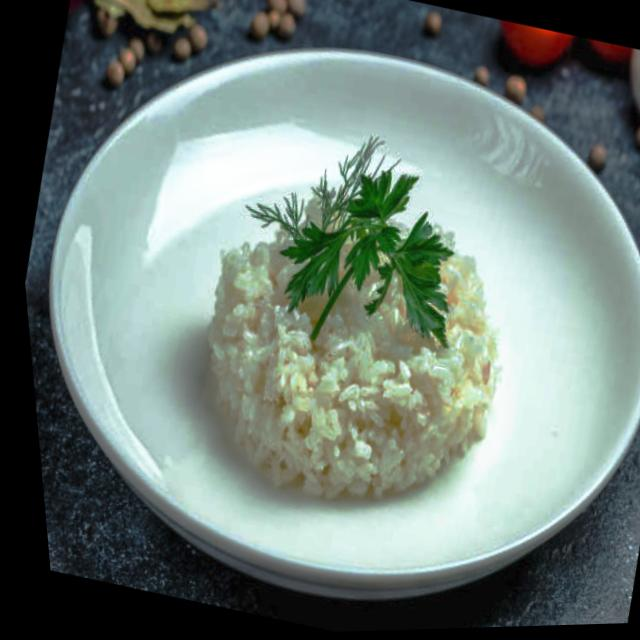rice: (155, 159, 547, 542)
